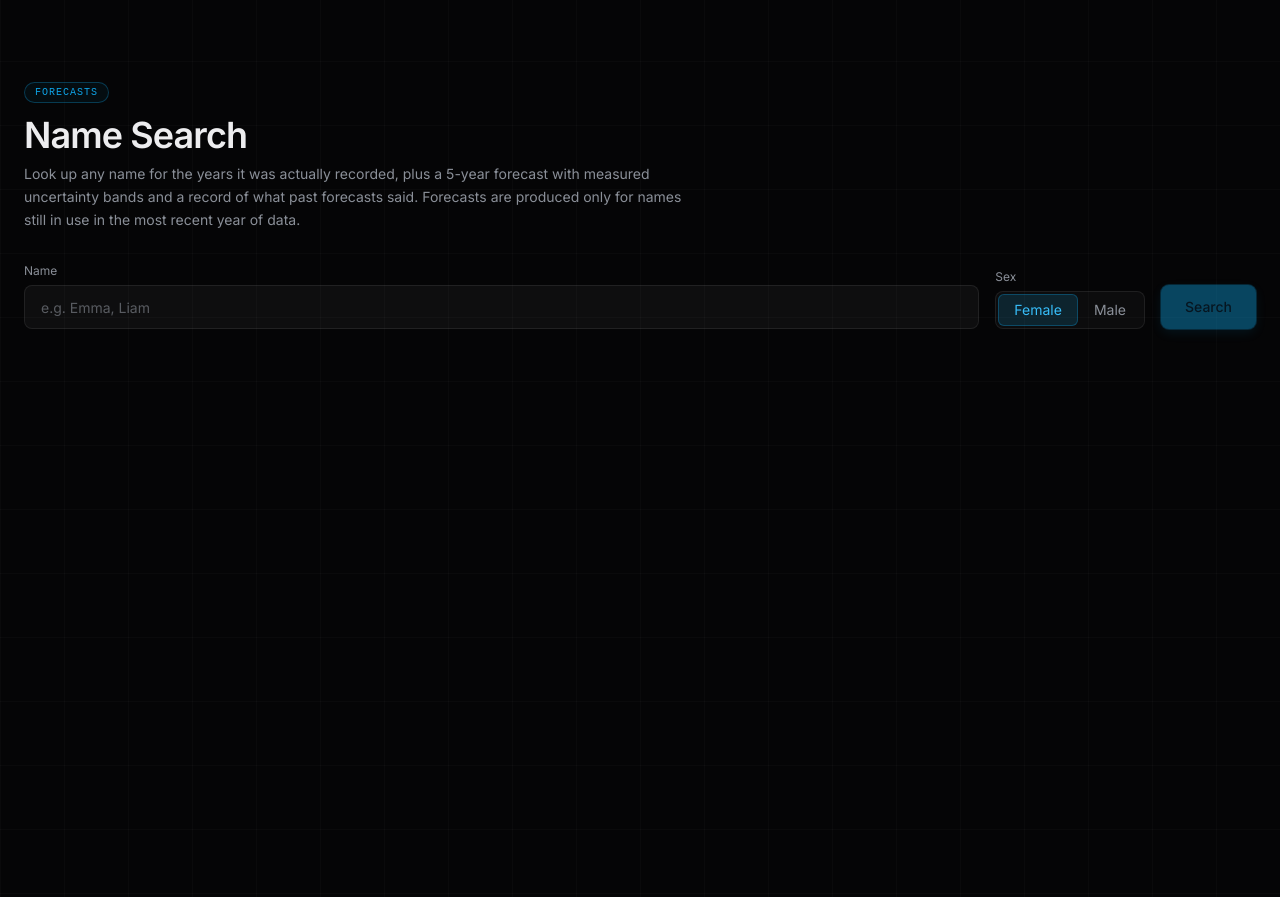
SearchPage track record › leaves a year the model was never checked on blank rather than zero
Step 1. Type "Emma" into the field labelled "Name" → (502, 307), box x1=24 y1=285 x2=979 y2=329
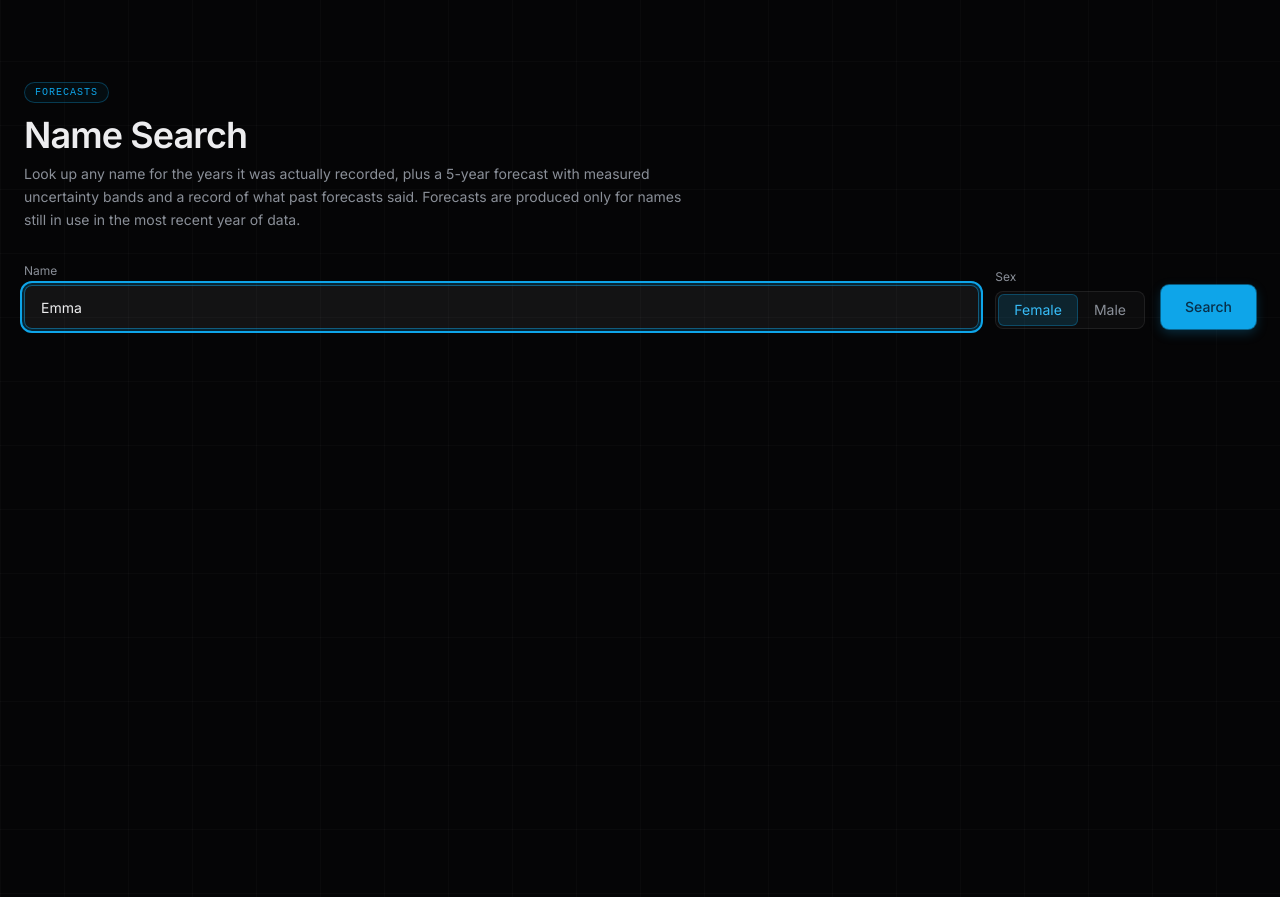
Step 2. Click the button "Search" → (1208, 307), box x1=1161 y1=285 x2=1256 y2=329
(page scrolled)
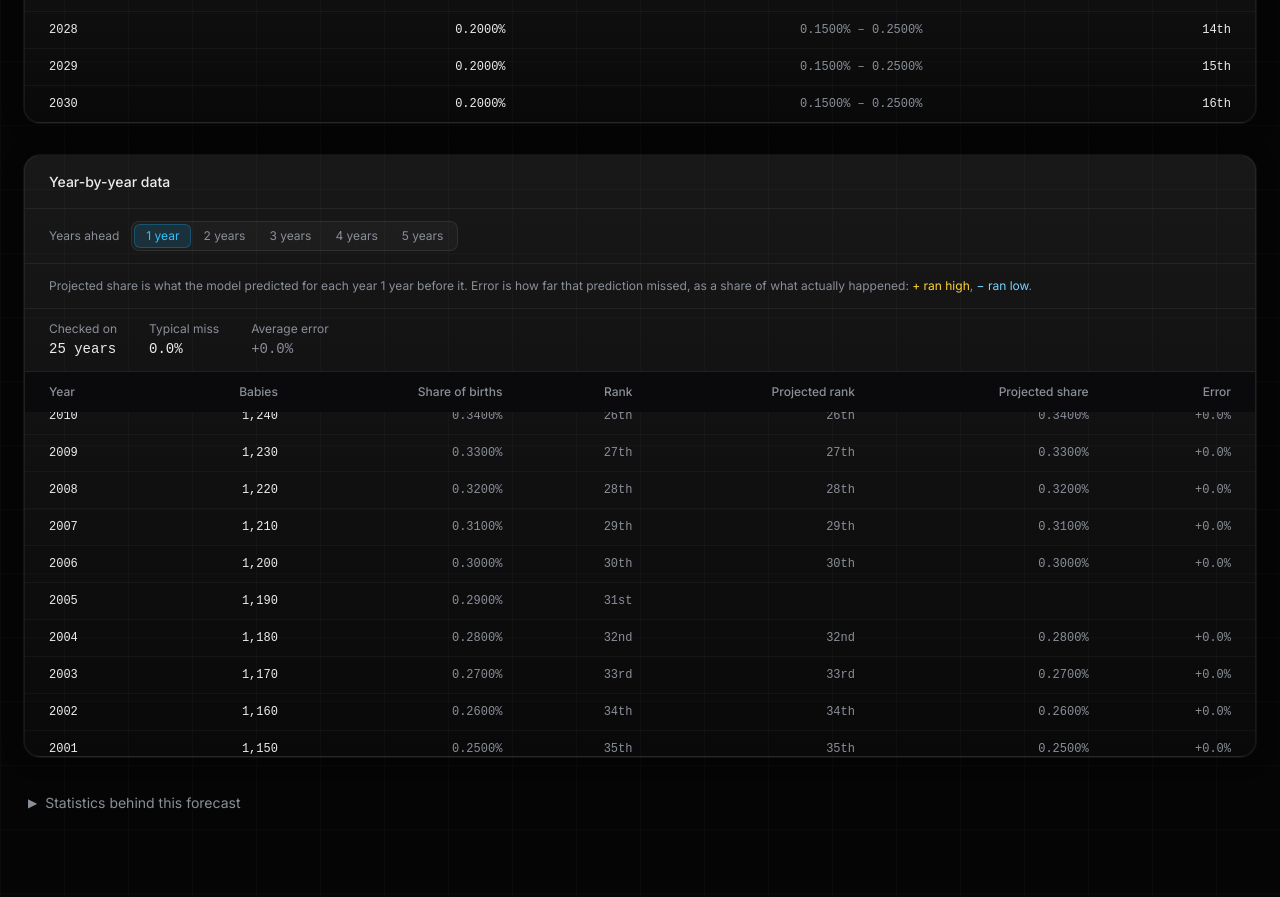
Expected: the column heading "Error" is shown, x1=1113 y1=372 x2=1255 y2=412
Expected: the cell "+0.0%" in the row of "2006" is shown, x1=1195 y1=557 x2=1231 y2=571
